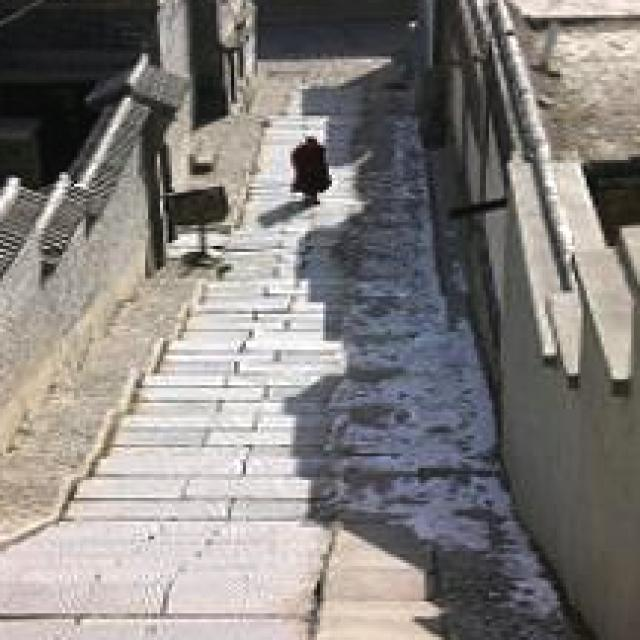downstair: (72, 306, 502, 567)
